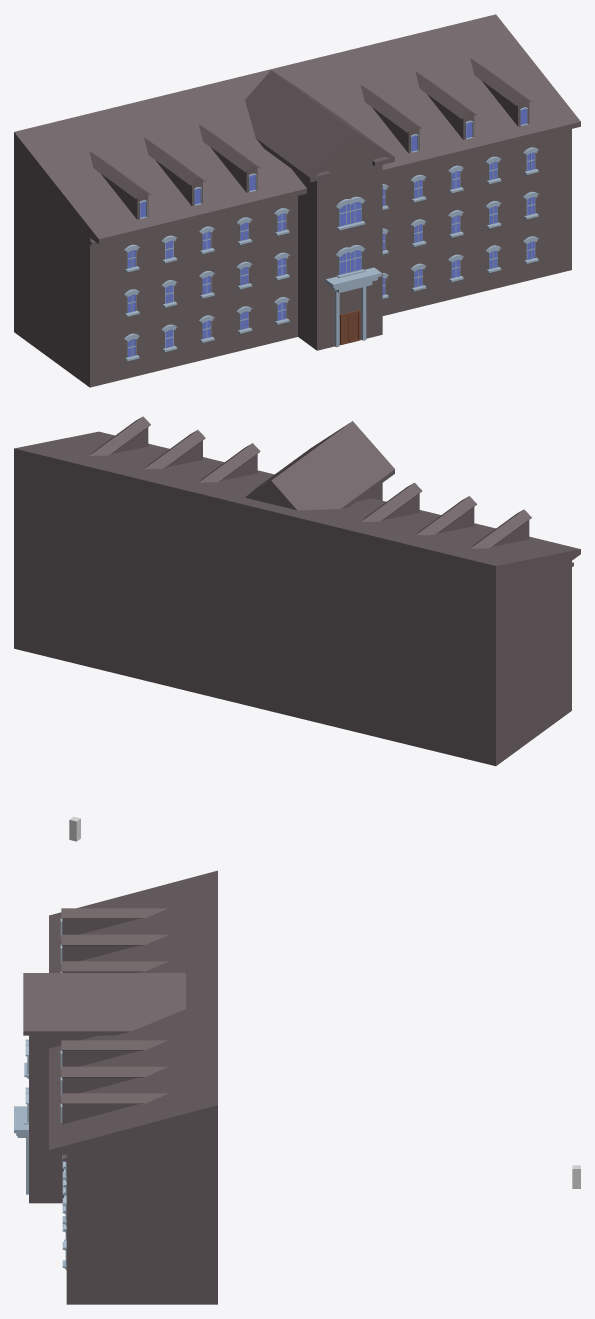
File: TBD_Caja2.glb
3 views of the same model, one above another, from view 1: azimuth 30°, elevation 25°; view 2: azimuth 150°, elevation 25°; view 3: azimuth 270°, elevation 25° (orthographic).
Parts seen in each view (by area): view 1: Plane, Plane.002, Plane.003, Plane.001, Plane.004, Cube, Cube.001; view 2: Plane, Plane.002, Plane.001; view 3: Plane, Plane.002, Plane.001.
Part boxes in pixels (x1,y1,x2,y2): Plane: [14, 14, 580, 387]; Plane.002: [245, 70, 394, 350]; Plane.003: [124, 147, 539, 362]; Plane.001: [89, 58, 531, 219]; Plane.004: [335, 196, 365, 278]; Cube: [325, 267, 381, 292]; Cube.001: [335, 286, 366, 347]; Plane: [14, 431, 580, 766]; Plane.002: [245, 421, 394, 510]; Plane.001: [89, 416, 531, 548]; Plane: [49, 870, 217, 1304]; Plane.002: [23, 973, 185, 1203]; Plane.001: [60, 908, 168, 1124].
Size of the model in its own units: 44 by 18.76 by 44.97.
